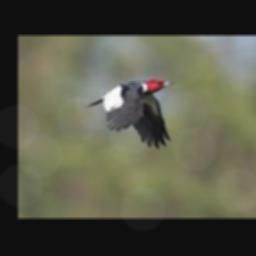Woodpecker: (83, 78, 174, 148)
